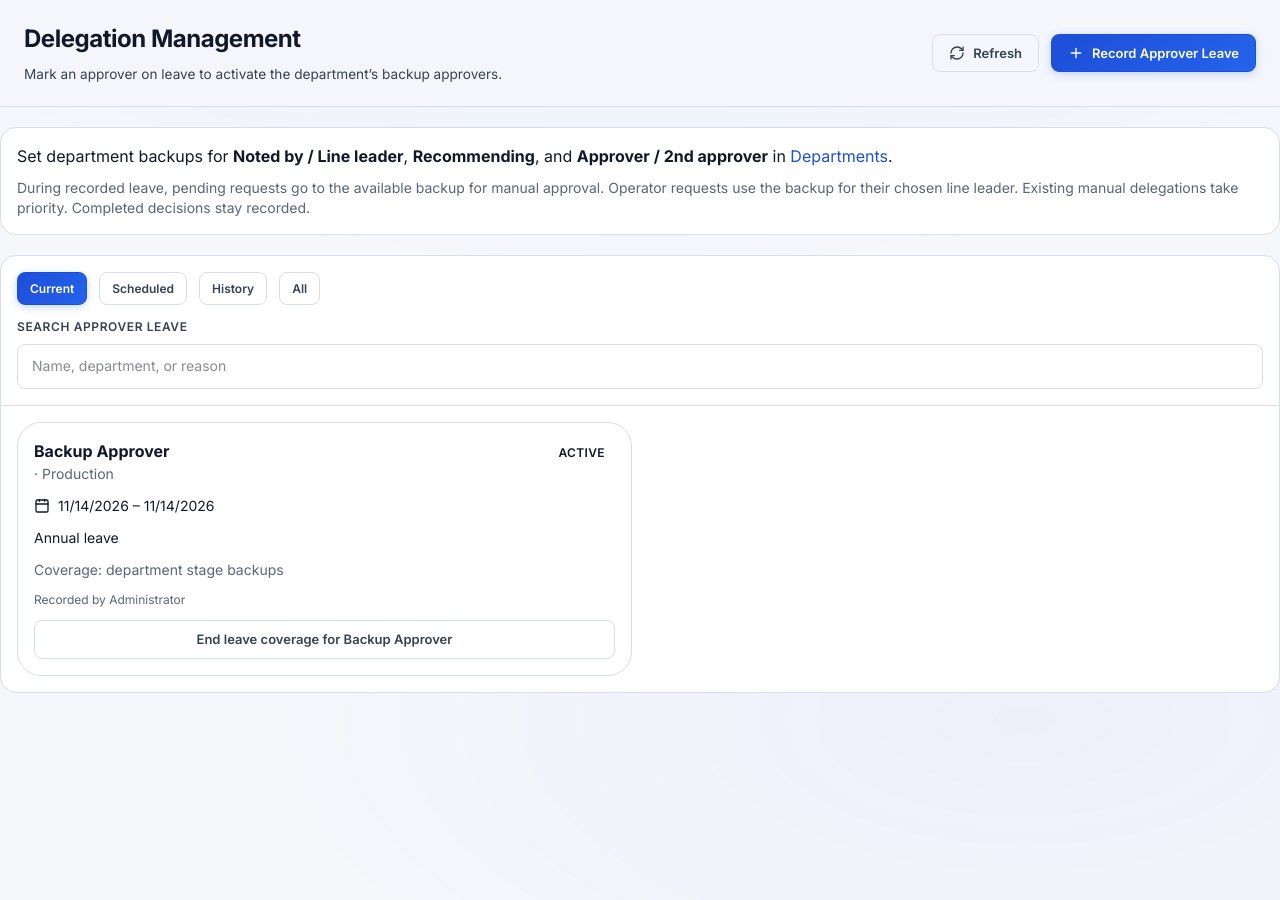
admin approver leave coverage › warns when the department backup is also on leave
The image size is (1280, 900).
Click the button "Record Approver Leave": coordinates (1154, 53) [1051,34,1256,72]
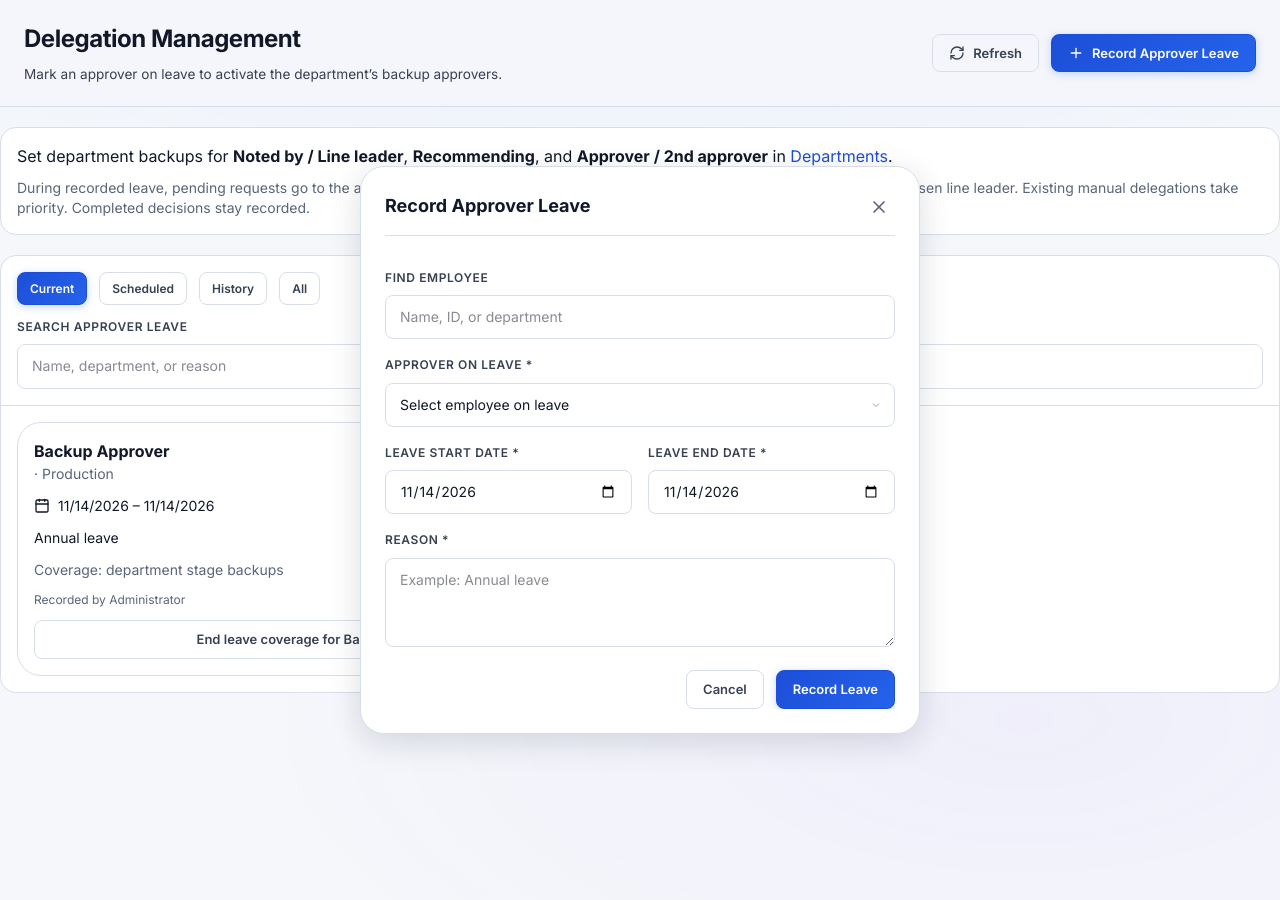
Select "Selected Line Leader · LEAD-2 (Production)" in the dropdown labelled "Approver on leave *": coordinates (640, 405) [385,382,895,427]
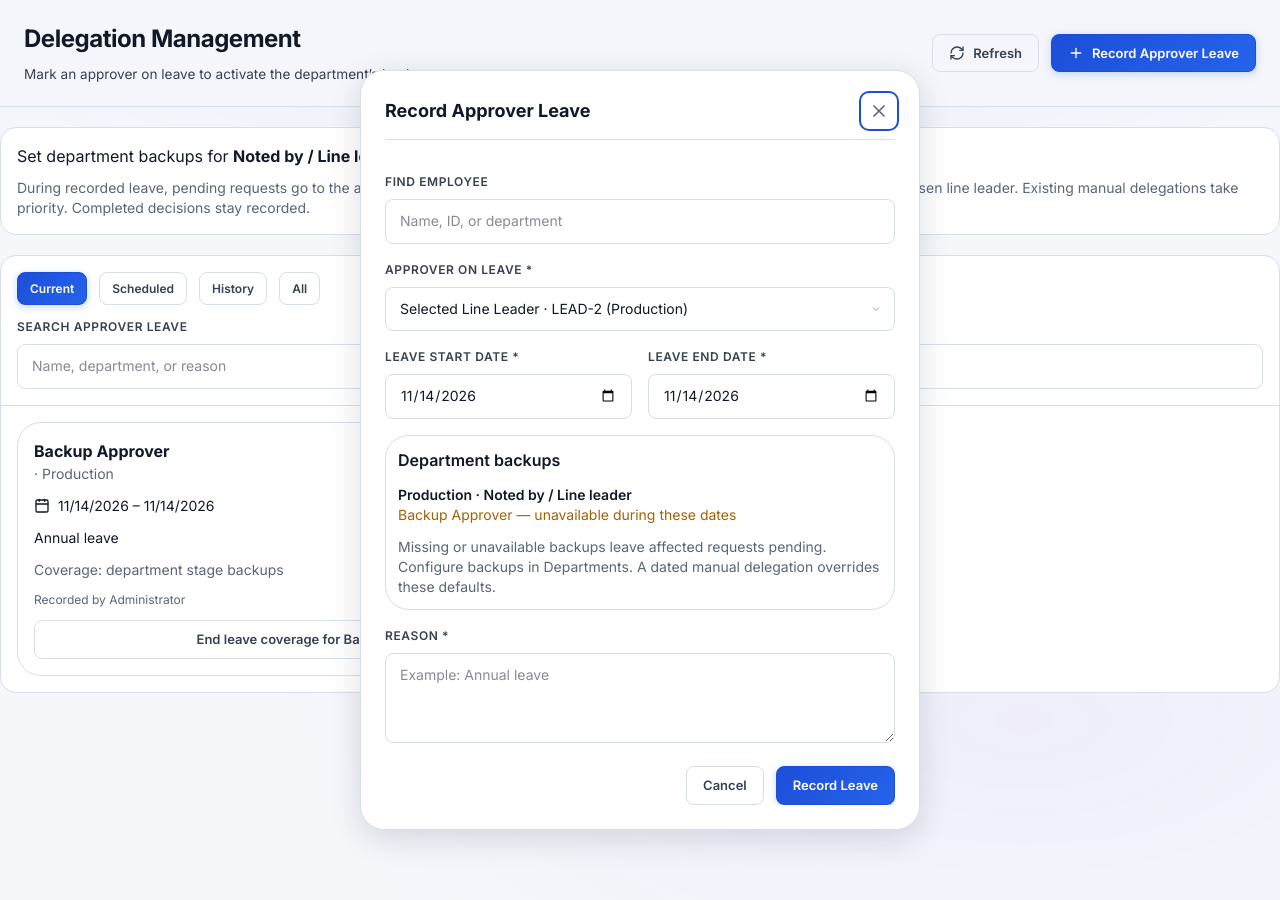
Result: the text "Backup Approver — unavailable during these dates" is shown at [398,506,736,523]
